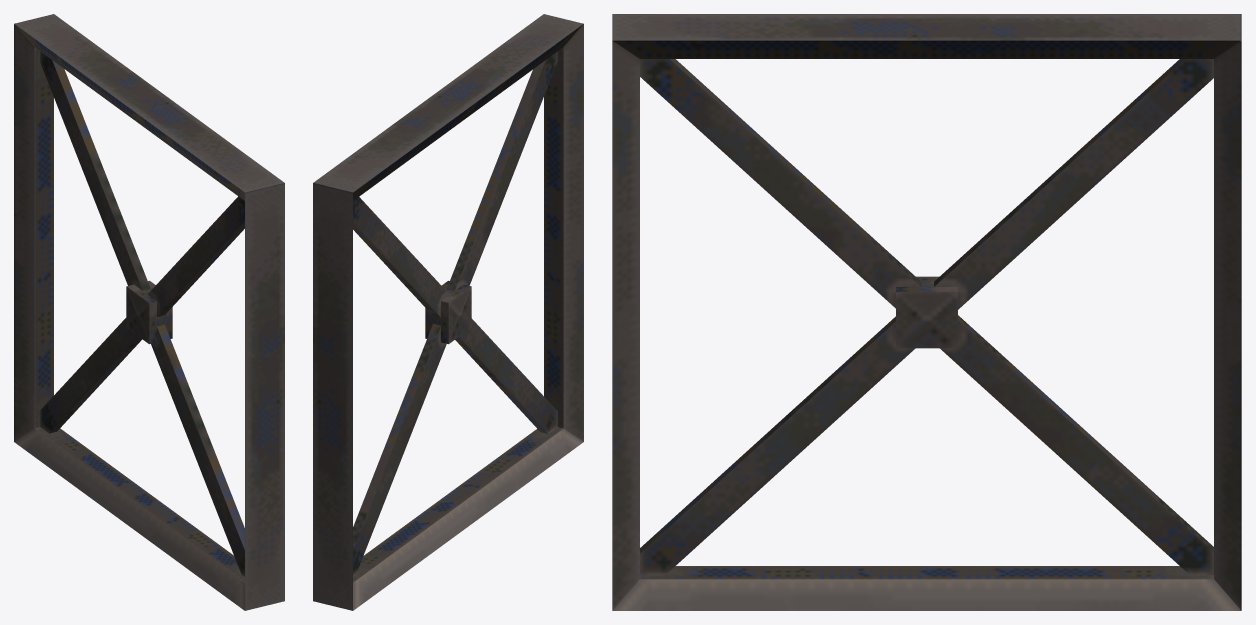
3 views of the same model, side by side, from view 1: azimuth 30°, elevation 25°; view 2: azimuth 150°, elevation 25°; view 3: azimuth 270°, elevation 25° (orthographic). The views are drawn at different scales.
Visible parts, largest first — view 1: Cube, Cube.002, Cube.001, Cube.003; view 2: Cube, Cube.001, Cube.002, Cube.003; view 3: Cube, Cube.001, Cube.002, Cube.003.
Part boxes in pixels (x1,y1,x2,y2): Cube: [14, 14, 284, 610]; Cube.002: [40, 51, 244, 576]; Cube.001: [40, 196, 244, 433]; Cube.003: [126, 280, 172, 344]; Cube: [313, 14, 583, 610]; Cube.001: [353, 51, 557, 576]; Cube.002: [353, 192, 557, 433]; Cube.003: [425, 280, 471, 344]; Cube: [612, 14, 1241, 610]; Cube.001: [640, 59, 1213, 575]; Cube.002: [640, 59, 1213, 575]; Cube.003: [896, 276, 957, 348].
Bounding box in the file's own units: 20 × 200 × 200.
